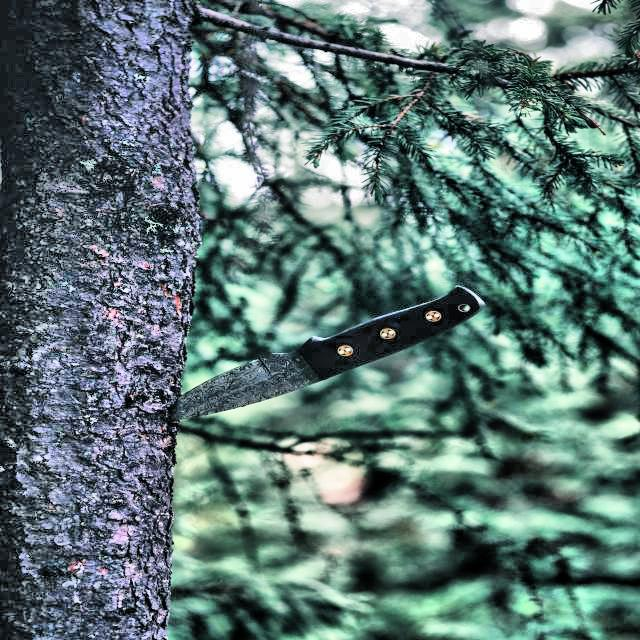knife: (146, 284, 482, 444)
